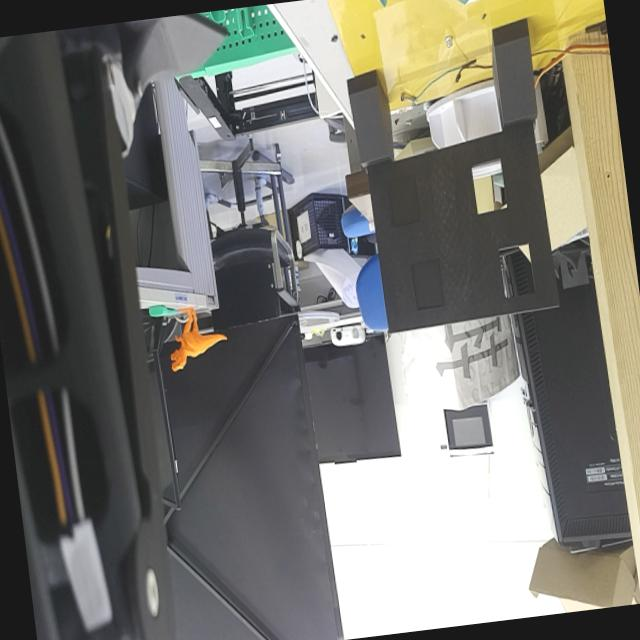Obstacle: (471, 157, 508, 214), (499, 242, 533, 299)
Wall: (367, 122, 557, 332)
